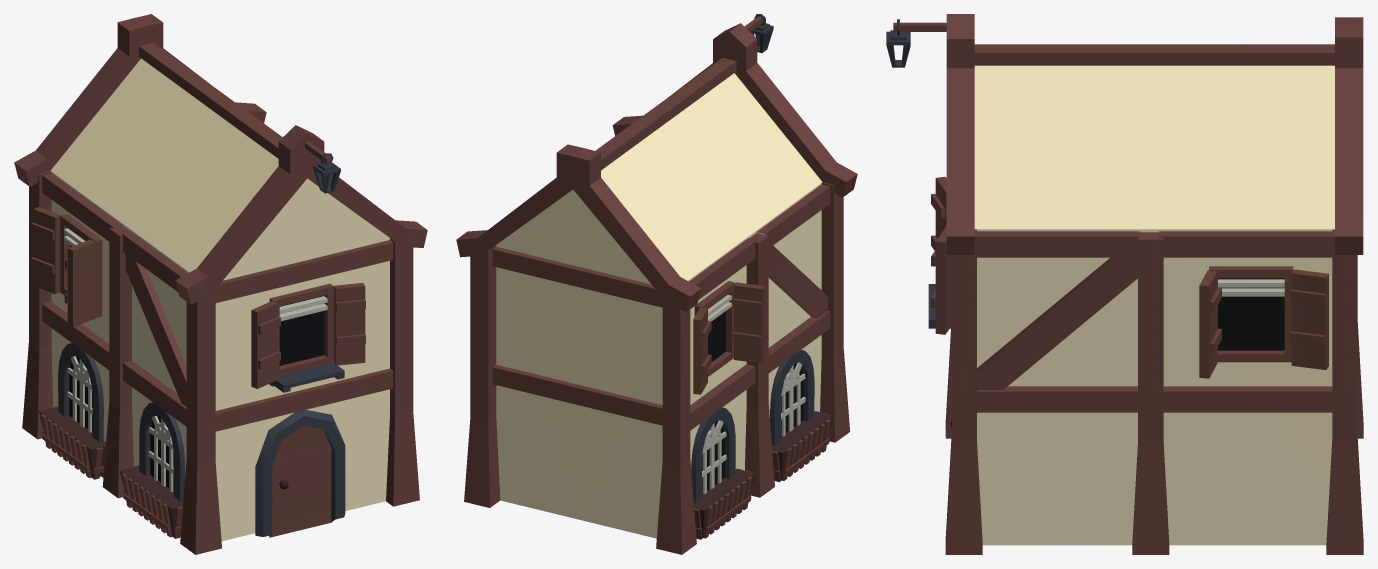
The model's file is dom1.fbx.
3 views of the same model, side by side, from view 1: azimuth 30°, elevation 25°; view 2: azimuth 150°, elevation 25°; view 3: azimuth 270°, elevation 25° (orthographic). The views are drawn at different scales.
Parts seen in each view (by area): view 1: Cube, Cube.001, Torus.001, Cube.018, Cube.002, Cube.003, Cube.015, Cube.023, Cube.020, Cube.025, Cube.022, Cube.019 (+1 smaller); view 2: Cube, Cube.002, Cube.001, Torus.001, Cube.018, Cube.003, Cube.015, Cube.020, Cube.023, Cube.022, Cube.025; view 3: Cube, Cube.001, Cube.002, Cube.018, Cube.003, Cube.015, Torus.
Boxes of the visible parts, x1,y1,x2,y2 form: Cube: (42,58,393,541); Cube.001: (175,125,427,554); Torus.001: (58,343,345,537); Cube.018: (30,206,365,388); Cube.002: (14,14,266,439); Cube.003: (102,226,133,498); Cube.015: (139,42,282,158); Cube.023: (39,407,105,478); Cube.020: (119,466,183,537); Cube.025: (41,414,91,478); Cube.022: (122,473,171,537); Cube.019: (269,363,344,392); Cube: (492,73,830,538); Cube.002: (456,144,701,554); Cube.001: (612,23,857,442); Torus.001: (691,349,814,503); Cube.018: (693,281,764,394); Cube.003: (745,233,774,497); Cube.015: (595,57,736,170); Cube.020: (772,411,833,480); Cube.023: (693,469,754,538); Cube.022: (782,419,830,480); Cube.025: (703,476,752,538); Cube: (974,65,1334,545); Cube.001: (945,14,982,554); Cube.002: (1326,17,1363,554); Cube.018: (931,176,1328,378); Cube.003: (1132,232,1169,554); Cube.015: (974,44,1334,65); Torus: (886,19,910,67).
Bounding box in the file's own units: 578 × 845 × 754.
